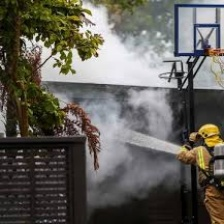smoke: (48, 32, 154, 79), (80, 99, 130, 186), (133, 91, 177, 137)
